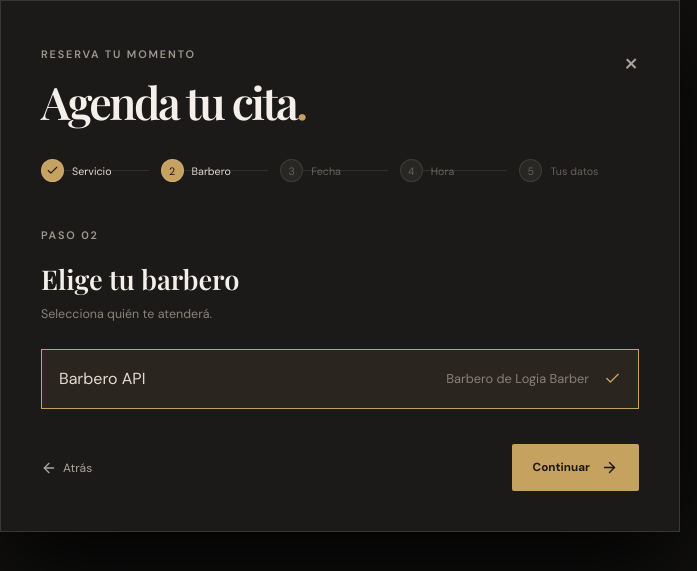
uses the backend timezone even when it changes to another IANA zone
Click the button "Continuar" at (575, 468), box [512,444,639,491]
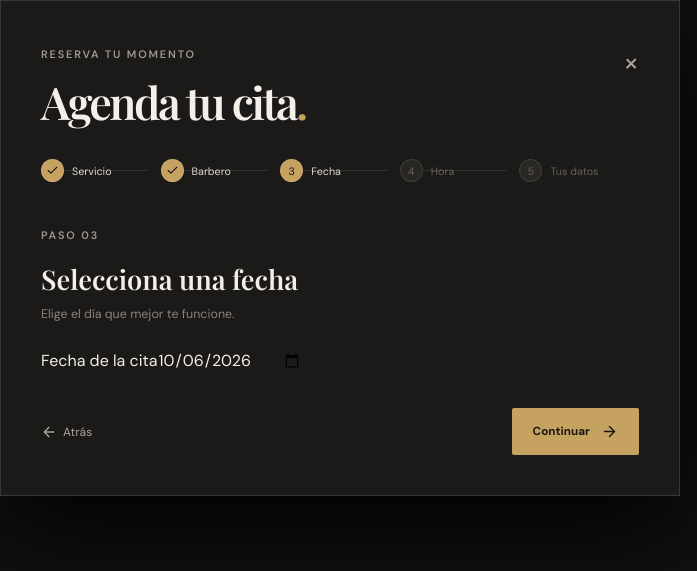
Click the button "Continuar" at (575, 432), box [512,408,639,455]
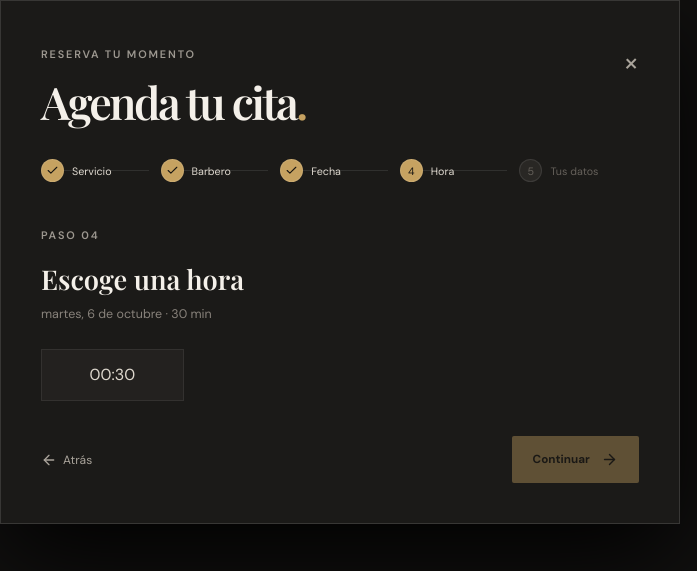
Check: the button "00:30" is shown, box [41,349,184,401]
